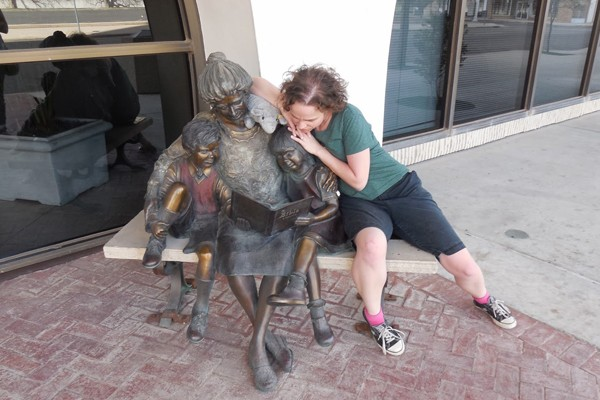person: (255, 67, 399, 203)
